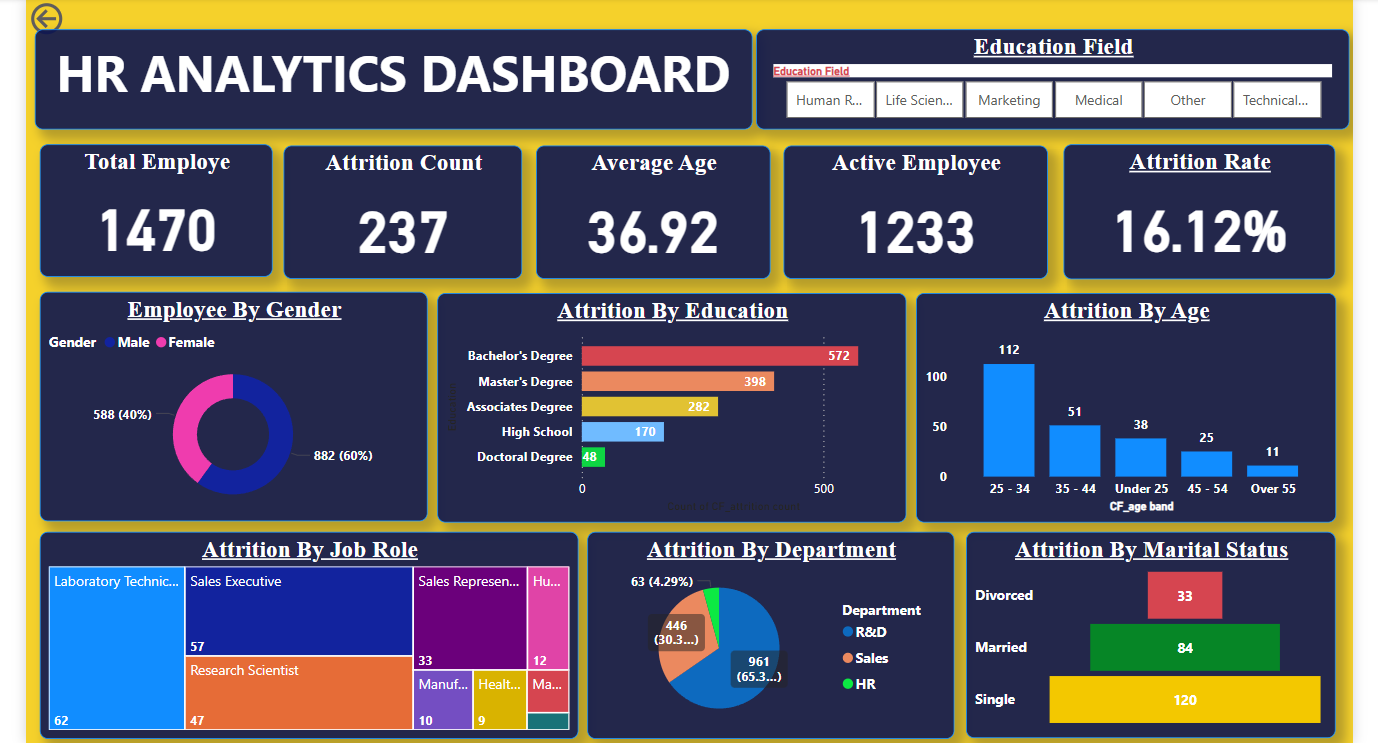

This screenshot's page, from the dashboard's own definition file:
{"tool":"powerbi","page":{"name":"Page 1","canvas":[1280,720],"ordinal":0},"visuals":[{"type":"card","title":"Total Employe","fields":{"Values":["Sum(HR ANALYSIS.Employee Count)"]},"box":[13.7,141.3,225,127.6],"z":0},{"type":"actionButton","box":[0,0,100,40],"z":1000},{"type":"card","title":"Attrition Count","fields":{"Values":["CountNonNull(HR ANALYSIS.CF_attrition count)"]},"box":[248.4,142.7,230.5,129],"z":2000},{"type":"card","title":"Average Age","fields":{"Values":["Avg(HR ANALYSIS.Age)"]},"box":[492.6,142.7,226.4,129],"z":3000},{"type":"card","title":"Active Employee","fields":{"Values":["Sum(HR ANALYSIS.Employee Count)"]},"box":[731.4,142.7,255.2,129],"z":4000},{"type":"donutChart","title":"Employee By Gender","fields":{"Y":["CountNonNull(HR ANALYSIS.Gender)"],"Category":["HR ANALYSIS.Gender"]},"box":[13.4,283.7,374.3,221.3],"z":5000},{"type":"clusteredBarChart","title":"Attrition By Education","fields":{"Category":["HR ANALYSIS.Education"],"Y":["CountNonNull(HR ANALYSIS.CF_attrition count)"]},"box":[396.6,285.2,453,221.3],"z":6000},{"type":"treemap","title":"Attrition By Job Role","fields":{"Group":["HR ANALYSIS.Job Role"],"Values":["Sum(HR ANALYSIS.CF_attrition counts)"]},"box":[13.7,514.6,520.1,200.3],"z":7000},{"type":"pieChart","title":"Attrition By Department","fields":{"Y":["CountNonNull(HR ANALYSIS.CF_attrition count)"],"Category":["HR ANALYSIS.Department"]},"box":[542,514.6,354,200.3],"z":8000},{"type":"clusteredColumnChart","title":"Attrition By Age","fields":{"Y":["CountNonNull(HR ANALYSIS.CF_attrition count)"],"Category":["HR ANALYSIS.CF_age band"]},"box":[858.9,284.6,405.2,221.2],"z":9000},{"type":"funnel","title":"Attrition By Marital Status","fields":{"Y":["CountNonNull(HR ANALYSIS.CF_attrition count)"],"Category":["HR ANALYSIS.Marital Status"]},"box":[907,514.6,356.8,199],"z":10000},{"type":"textbox","box":[8.4,30.2,692.5,96.5],"z":11000},{"type":"slicer","title":"Education Field","fields":{"Values":["HR ANALYSIS.Education Field"]},"box":[704.6,30.2,573.1,96.5],"z":12000},{"type":"card","title":"Attrition Rate","fields":{"Values":["HR ANALYSIS.attrition rate"]},"box":[1001.7,141.3,262.1,130.4],"z":13000}]}

Visuals, with their boxes in screenshot pixels (x1, y1, x2, y2):
"Total Employe" card: left=32, top=138, right=270, bottom=273
actionButton: left=18, top=0, right=123, bottom=31
"Attrition Count" card: left=280, top=140, right=523, bottom=276
"Average Age" card: left=538, top=140, right=776, bottom=276
"Active Employee" card: left=789, top=140, right=1059, bottom=276
"Employee By Gender" donutChart: left=32, top=288, right=427, bottom=522
"Attrition By Education" clusteredBarChart: left=436, top=290, right=914, bottom=524
"Attrition By Job Role" treemap: left=32, top=532, right=581, bottom=742
"Attrition By Department" pieChart: left=590, top=532, right=963, bottom=742
"Attrition By Age" clusteredColumnChart: left=924, top=289, right=1351, bottom=523
"Attrition By Marital Status" funnel: left=975, top=532, right=1351, bottom=742
textbox: left=27, top=21, right=757, bottom=123
"Education Field" slicer: left=761, top=21, right=1366, bottom=123
"Attrition Rate" card: left=1075, top=138, right=1351, bottom=276
